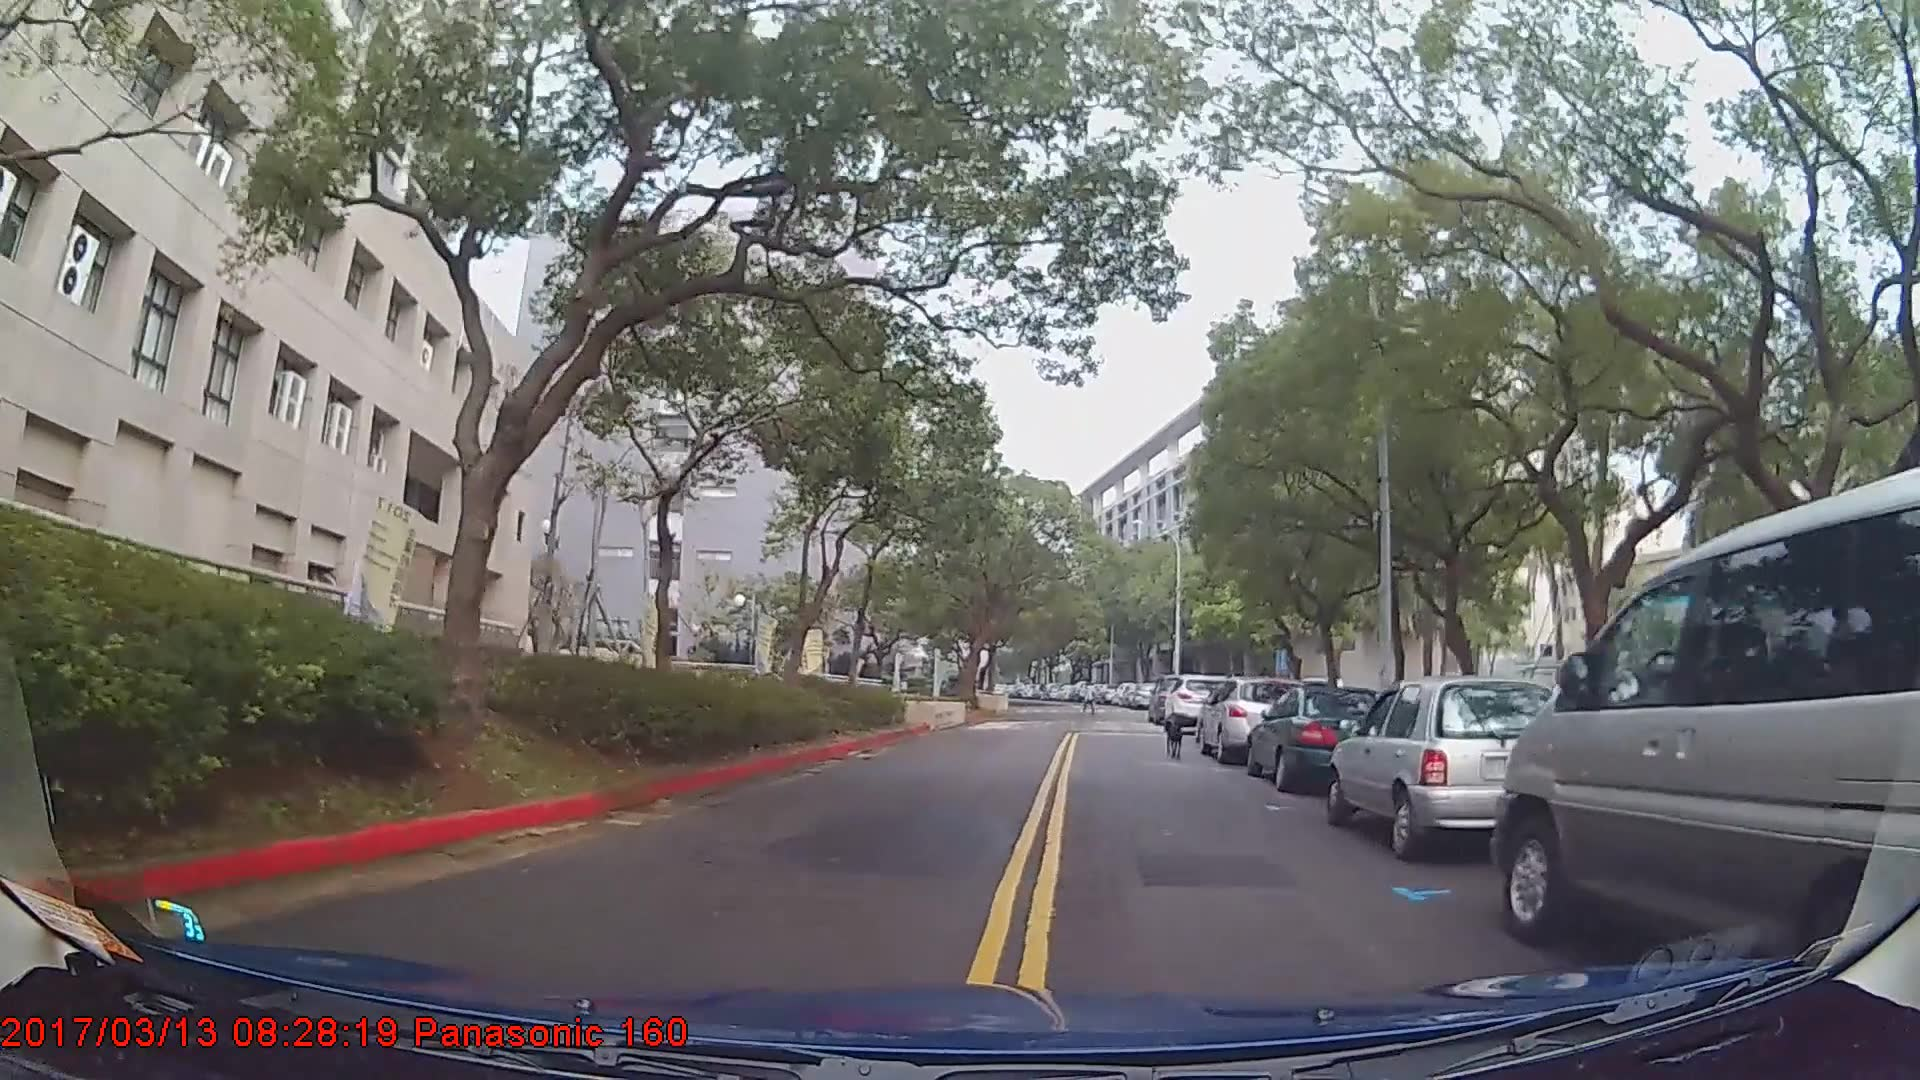vehicle: (1487, 465, 1920, 972), (1328, 676, 1584, 860), (1245, 683, 1400, 796), (1197, 676, 1300, 764), (1164, 673, 1233, 731)
